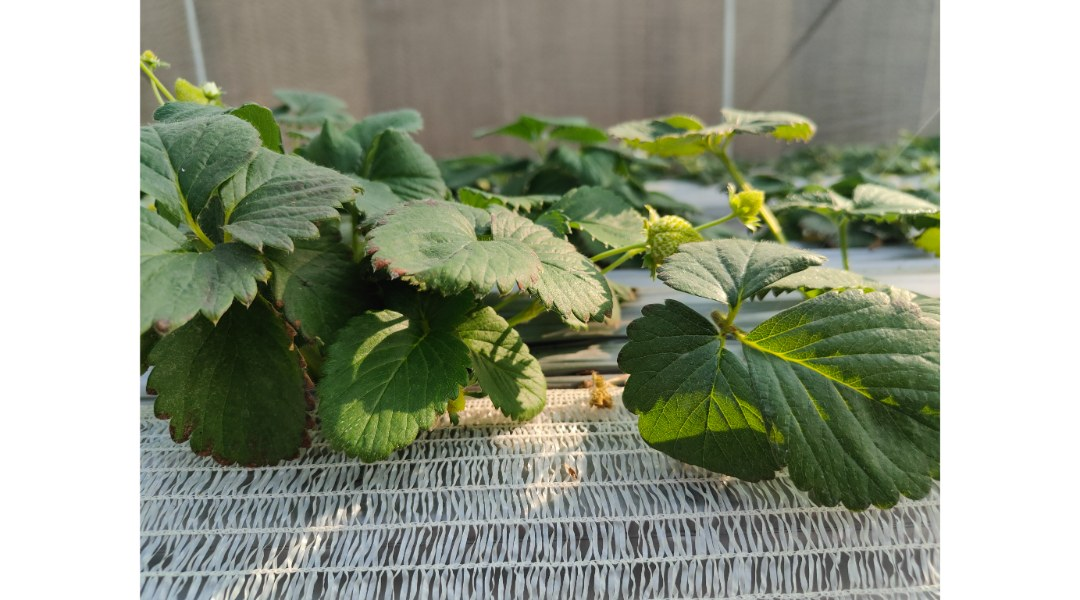berry: (640, 195, 699, 267), (724, 178, 763, 228)
strain: (584, 238, 646, 267), (594, 248, 643, 284), (691, 214, 735, 232)
